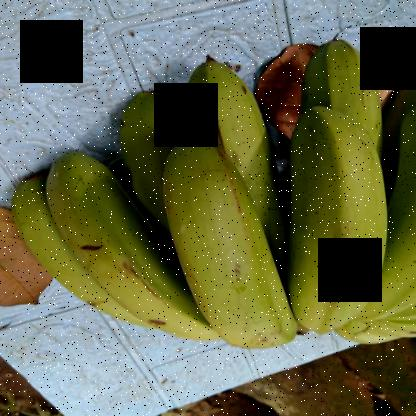freshunripe: (274, 104, 396, 336)
unripe: (146, 134, 297, 365), (43, 144, 197, 354), (174, 50, 295, 205)
